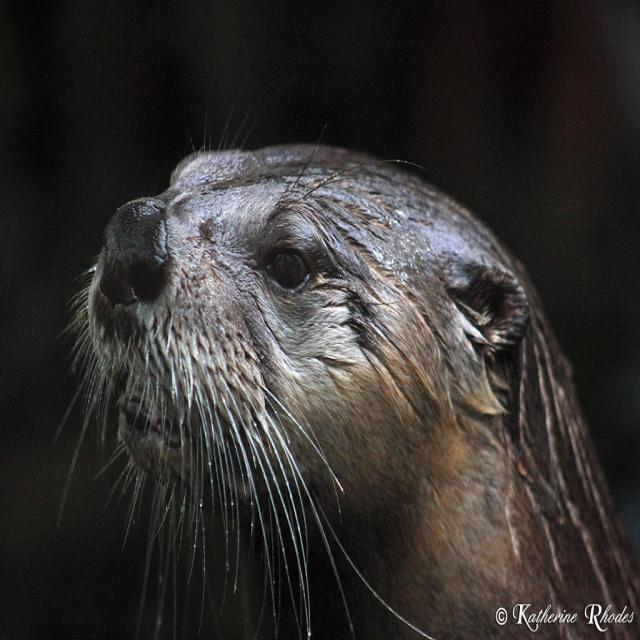otter: (89, 146, 573, 597)
